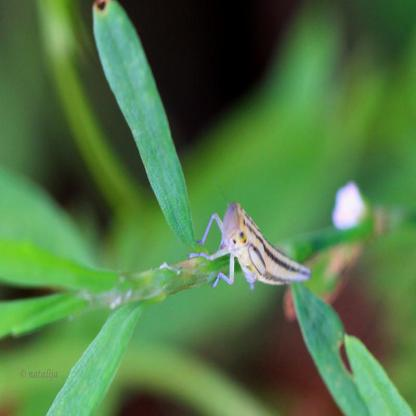Green-Leafhopper: (187, 198, 312, 294)
